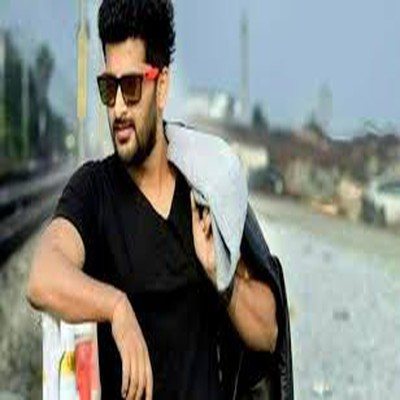eywear: (89, 65, 175, 111)
